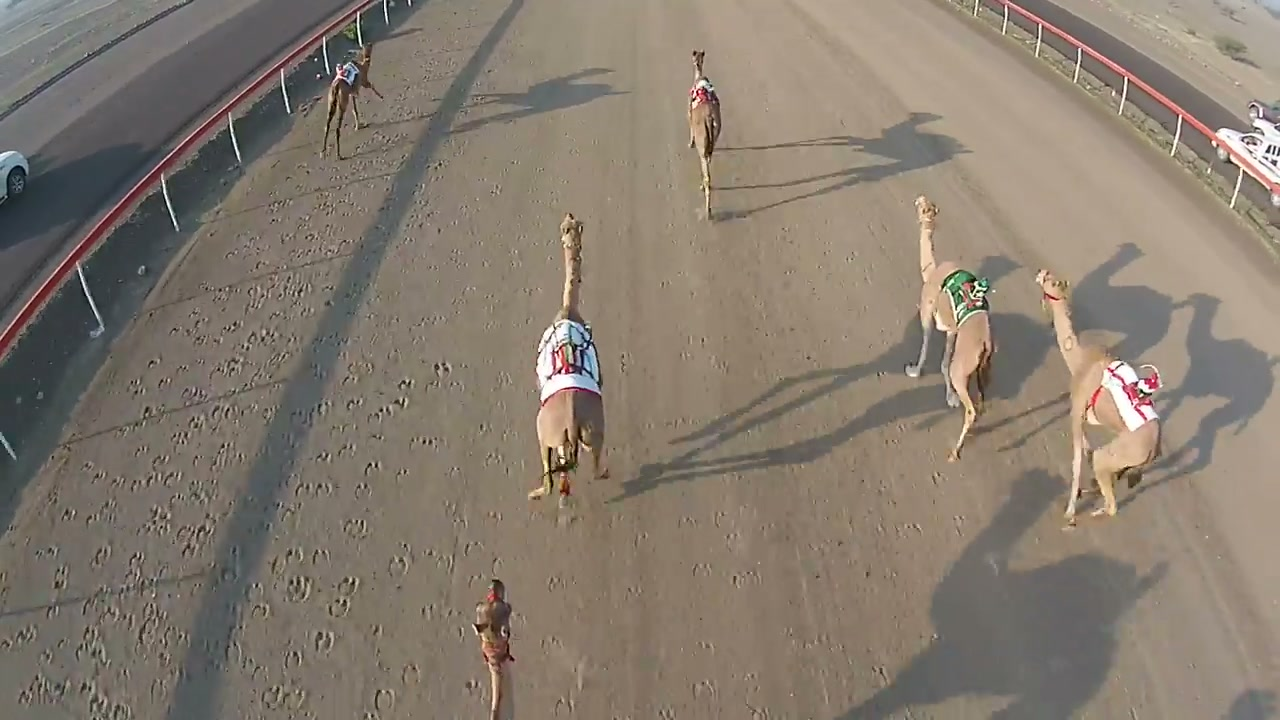animal_foot_print: (29, 144, 360, 719), (218, 298, 442, 717)
